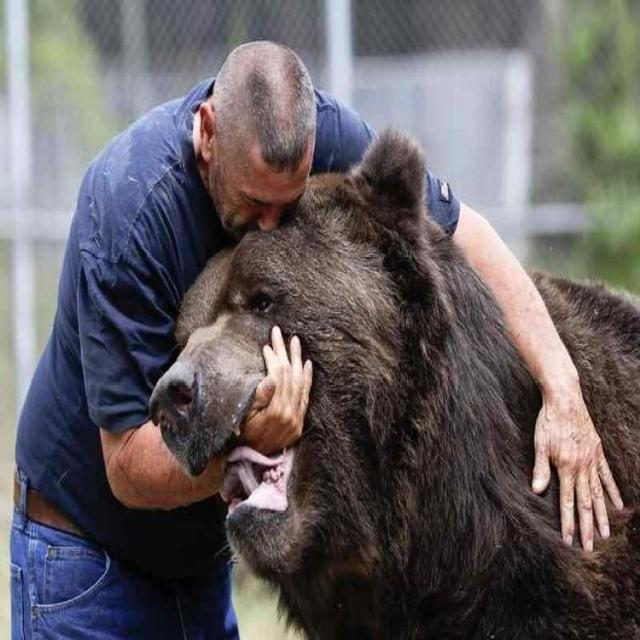Bear: (148, 129, 640, 640)
